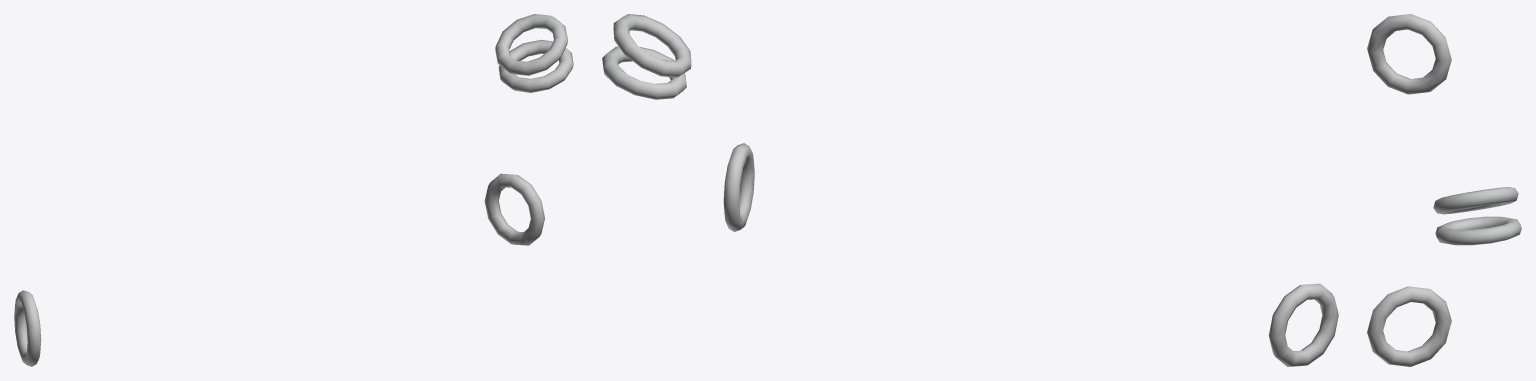
File: Earring_12.fbx
3 views of the same model, side by side, from view 1: azimuth 30°, elevation 25°; view 2: azimuth 150°, elevation 25°; view 3: azimuth 270°, elevation 25° (orthographic). The views are drawn at different scales.
Parts seen in each view (by area): view 1: Earring_12; view 2: Earring_12; view 3: Earring_12.
Part boxes in pixels (bbox=[...]): Earring_12: bbox=[14, 14, 573, 366]; Earring_12: bbox=[602, 14, 1338, 366]; Earring_12: bbox=[1367, 14, 1521, 366].
Size of the model in its own units: 60.3 by 18.5 by 12.08.
